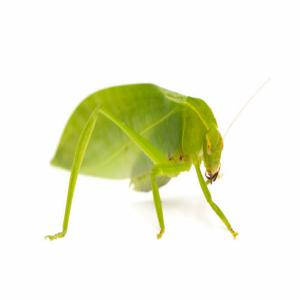locust: (49, 73, 247, 250)
